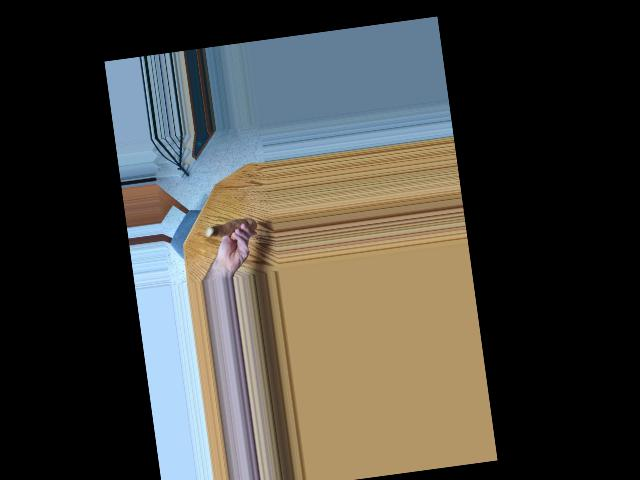sweet_potato: (203, 216, 256, 243)
